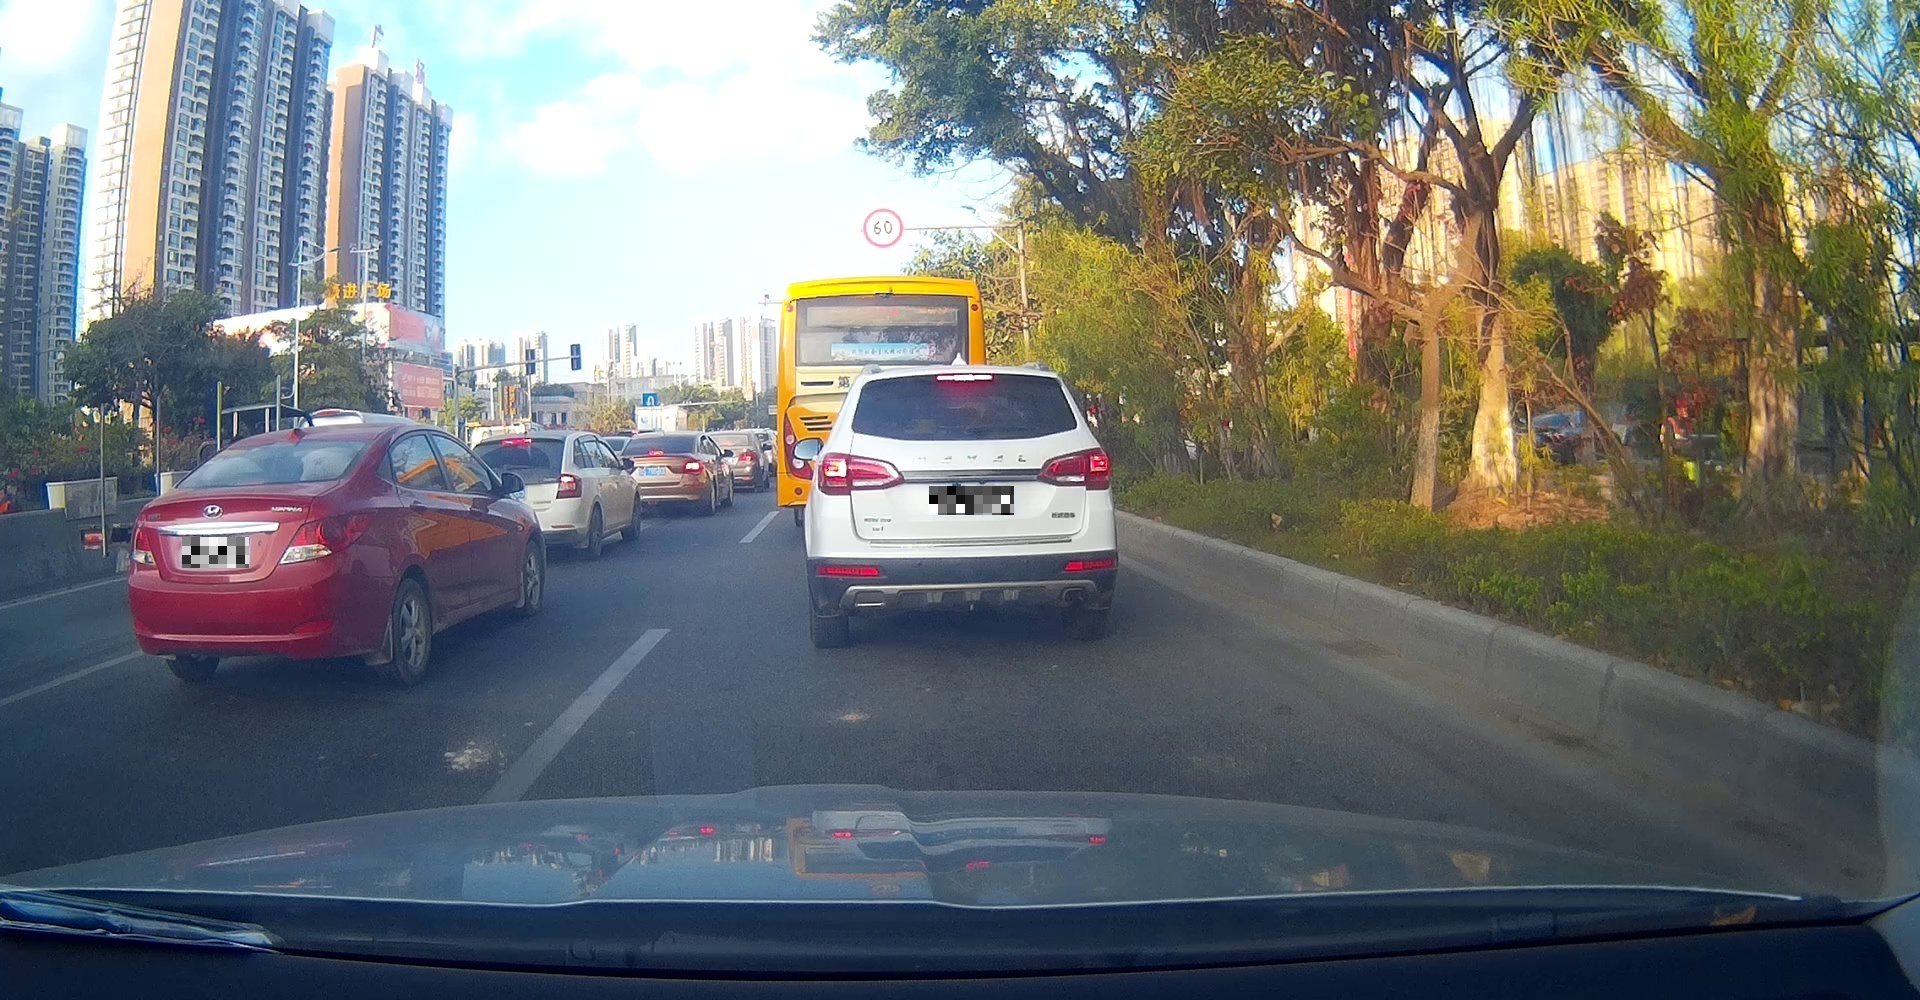L_light: (817, 452, 905, 496), (128, 522, 156, 566)
R_light: (277, 511, 375, 565), (1036, 447, 1111, 491)
T_light: (937, 374, 993, 381), (232, 478, 267, 486)
day-brake: (804, 363, 1119, 648)
day-no: (126, 424, 377, 685)
plate_1: (182, 537, 249, 569)
plate_2: (930, 486, 1015, 515)
